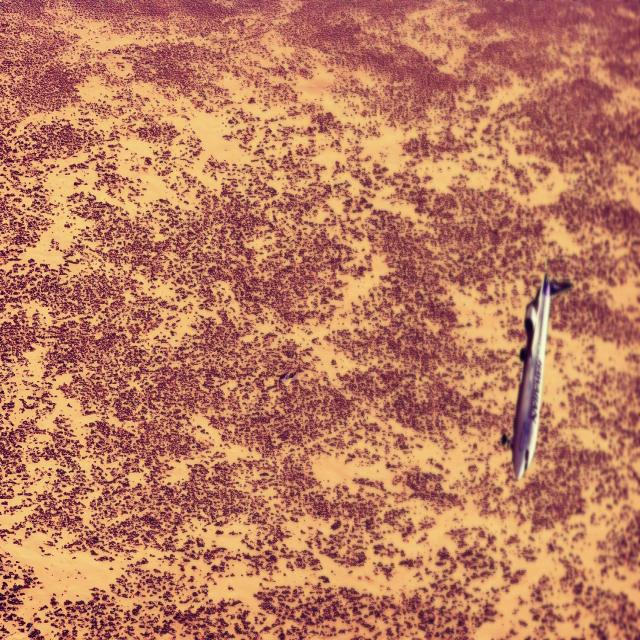airplane: (510, 272, 571, 481)
